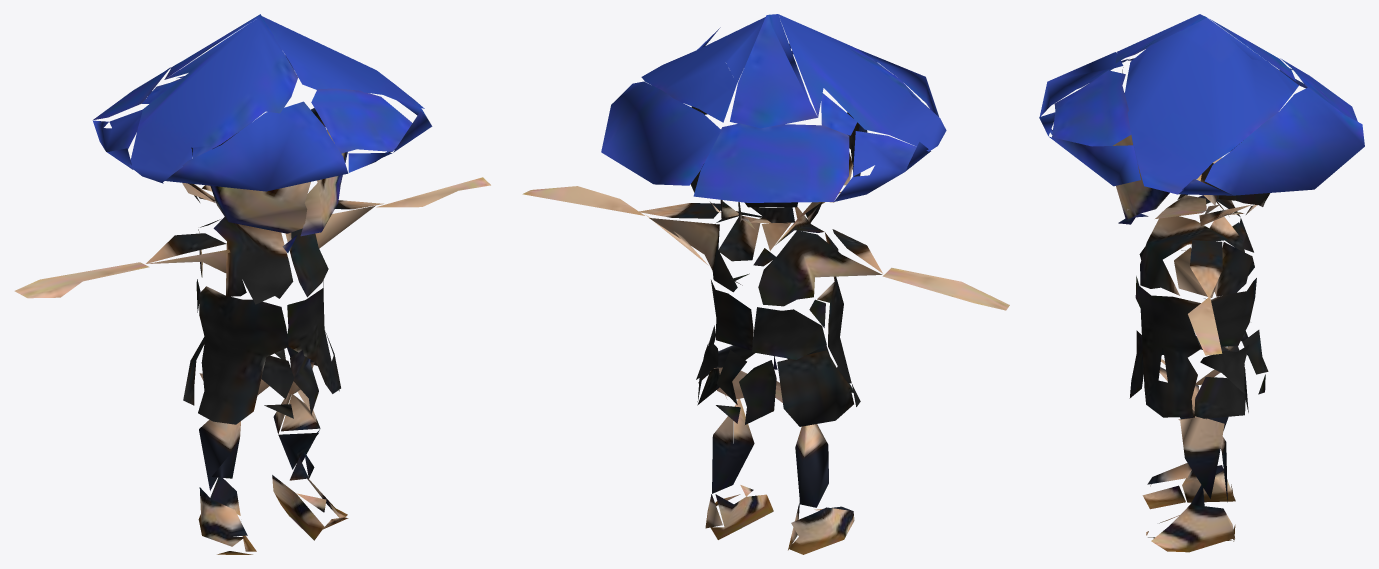
File: fu_blue.glb
3 renders of one model, left to right at view 1: azimuth 30°, elevation 25°; view 2: azimuth 150°, elevation 25°; view 3: azimuth 270°, elevation 25°, orthographic. The views are drawn at different scales.
Parts seen in each view (by area): view 1: fu_blue; view 2: fu_blue; view 3: fu_blue.
Part boxes in pixels (left/top/right/bottom): fu_blue: left=14, top=14, right=490, bottom=554; fu_blue: left=522, top=14, right=1009, bottom=554; fu_blue: left=1039, top=14, right=1364, bottom=552.
Bounding box in the file's own units: 0.6751 × 0.7 × 0.4062.
1 material, 1 textured.
